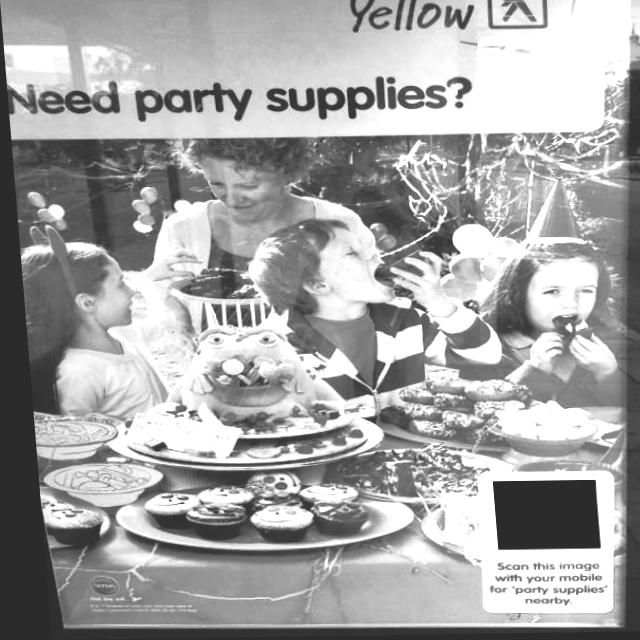qr_code: (484, 482, 592, 551)
